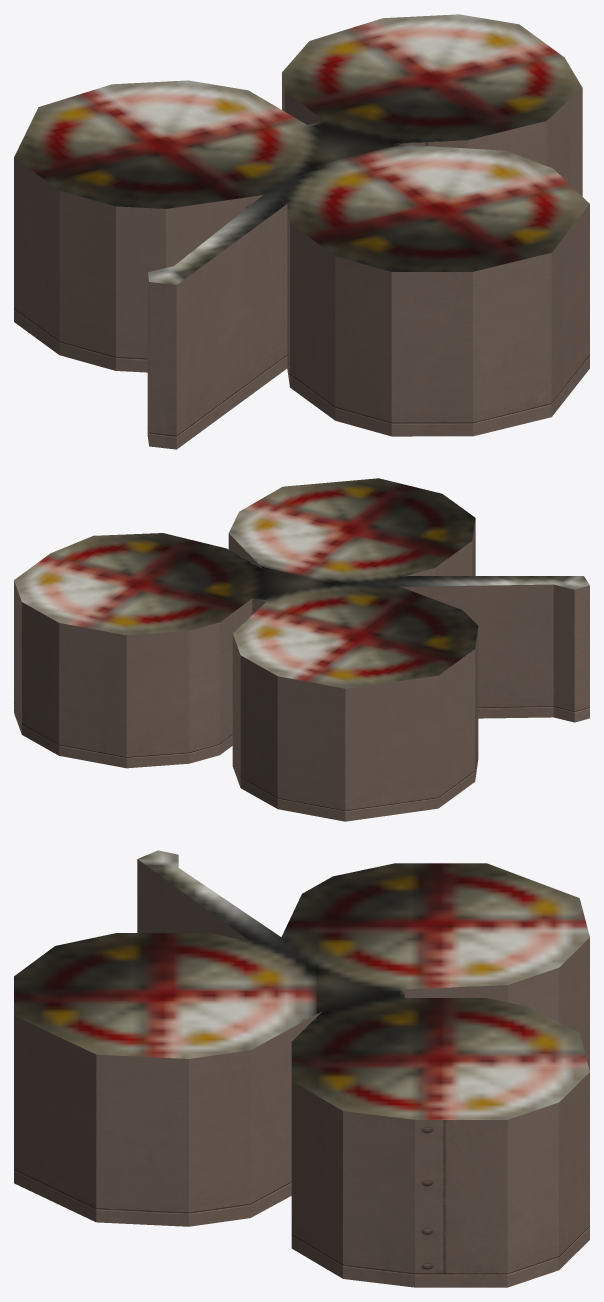
Rendered from fuel_tank_medium_16.glb.
The picture shows the model from 3 angles, top to bottom: view 1: azimuth 30°, elevation 25°; view 2: azimuth 150°, elevation 25°; view 3: azimuth 270°, elevation 25°; orthographic projection. The views are drawn at different scales.
Visible parts, largest first — view 1: buildings/saxarba/fuel_tanks/fuel_tank_medium_16; view 2: buildings/saxarba/fuel_tanks/fuel_tank_medium_16; view 3: buildings/saxarba/fuel_tanks/fuel_tank_medium_16.
Boxes of the visible parts, box(x1,y1,x2,y2) form: buildings/saxarba/fuel_tanks/fuel_tank_medium_16: box(14, 14, 589, 449); buildings/saxarba/fuel_tanks/fuel_tank_medium_16: box(14, 478, 589, 821); buildings/saxarba/fuel_tanks/fuel_tank_medium_16: box(14, 850, 589, 1287).
Bounding box in the file's own units: 62 × 18 × 56.
